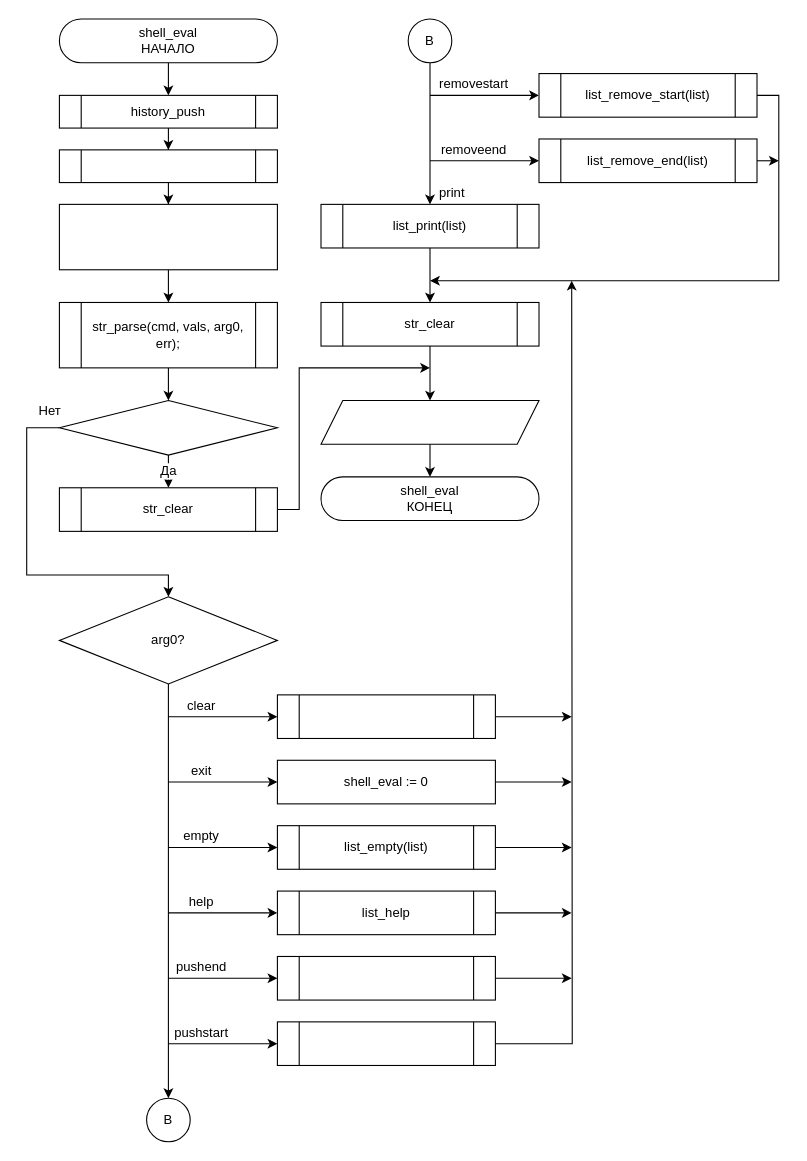
Some shapes in this 807 by 1161 pixel diagram are drawn without their labels. The centre of each missing label's shape, as x and y in pixels:
err <> -1: (x=167, y=427)
list_delete(list): (x=385, y=716)
list_push_end(list, vals[0]): (x=385, y=977)
list_push_start(list, vals[0]): (x=385, y=1043)
shell_eval := 1;: (x=167, y=236)
str_goto_begin: (x=167, y=166)
Вернуть shell_eval: (x=429, y=421)
